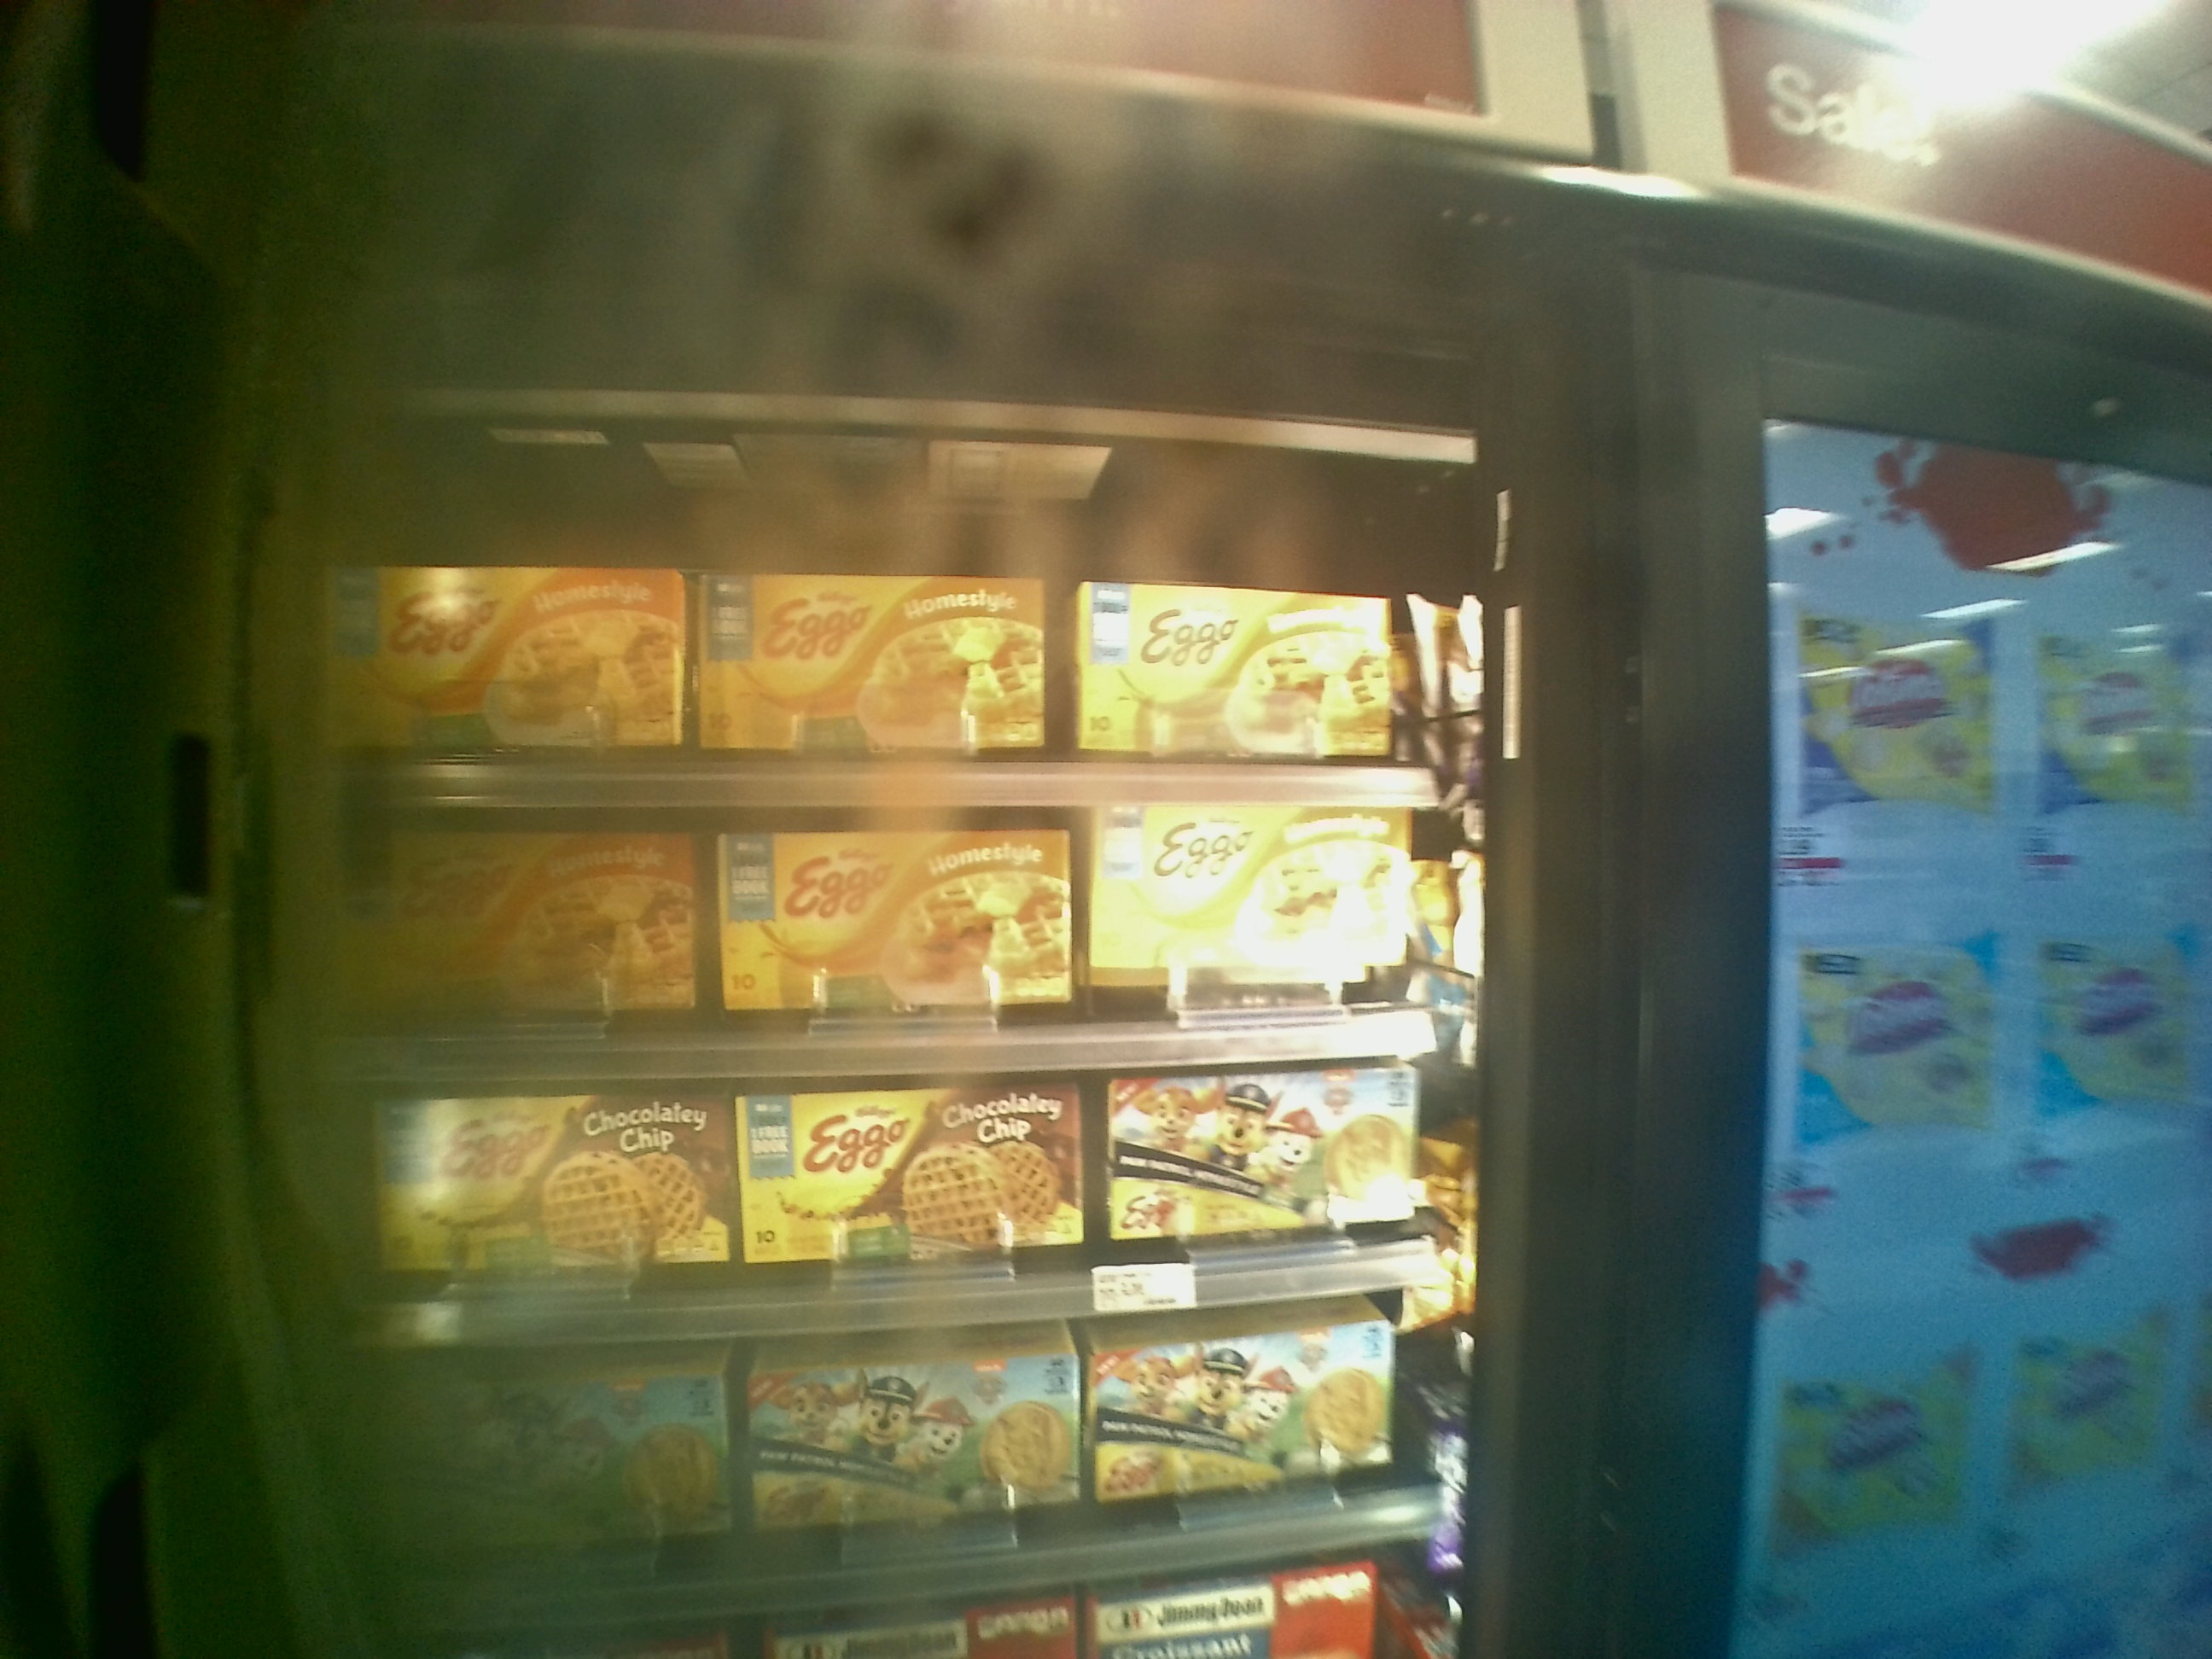shelf: (341, 397, 1453, 809), (343, 788, 1463, 1089)
